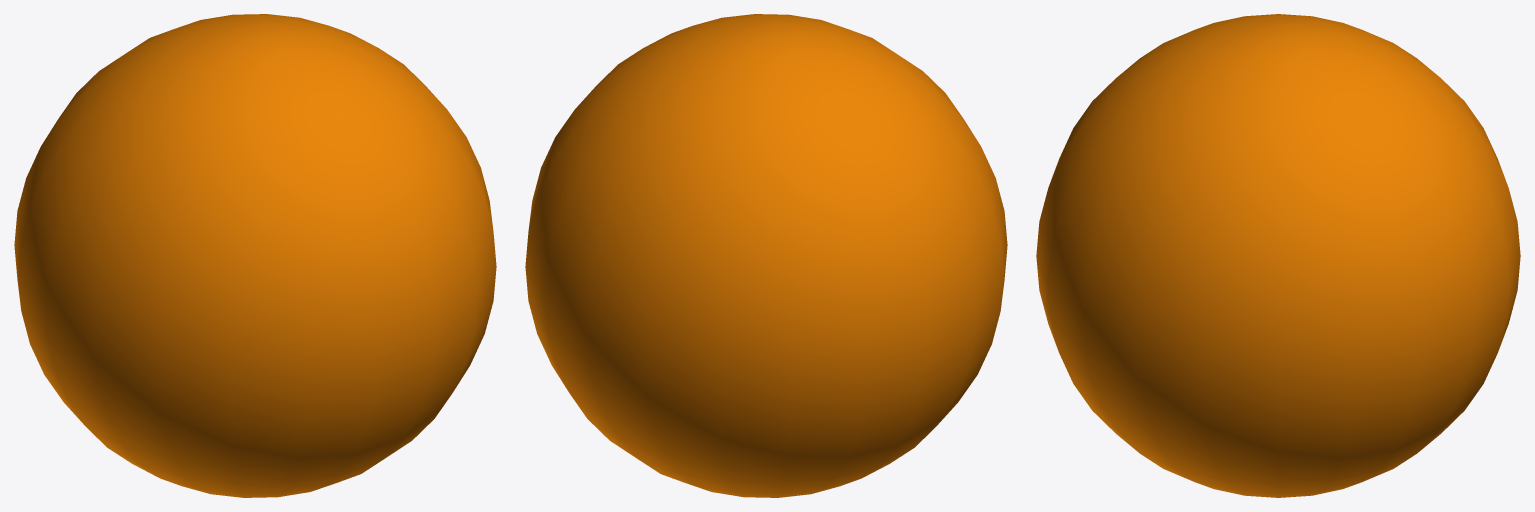
Rendered from Bouncer.fbx.
3 views of the same model, side by side, from view 1: azimuth 30°, elevation 25°; view 2: azimuth 150°, elevation 25°; view 3: azimuth 270°, elevation 25° (orthographic).
Parts seen in each view (by area): view 1: pSphere1; view 2: pSphere1; view 3: pSphere1.
Part boxes in pixels (bbox=[...]): pSphere1: bbox=[14, 14, 496, 497]; pSphere1: bbox=[525, 14, 1007, 497]; pSphere1: bbox=[1036, 14, 1520, 497].
Bounding box in the file's own units: 4.11 × 4.11 × 4.11.
